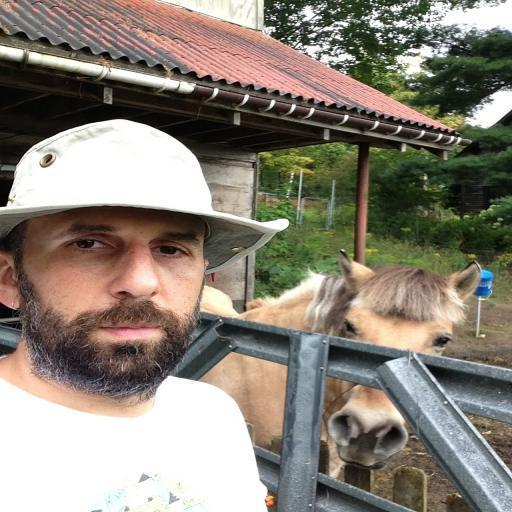horse: (166, 248, 484, 480)
